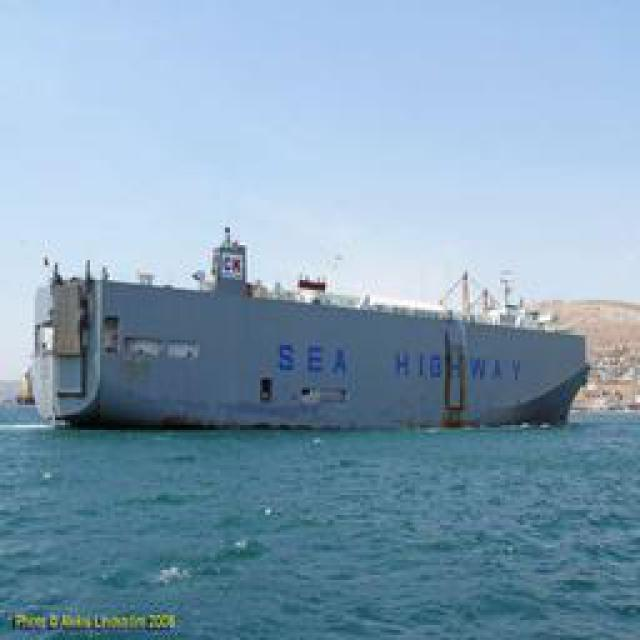Ship: (28, 239, 593, 439)
